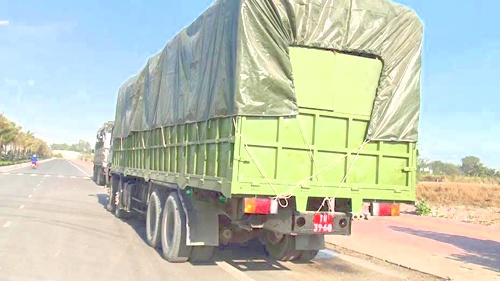plate: (305, 212, 340, 238)
